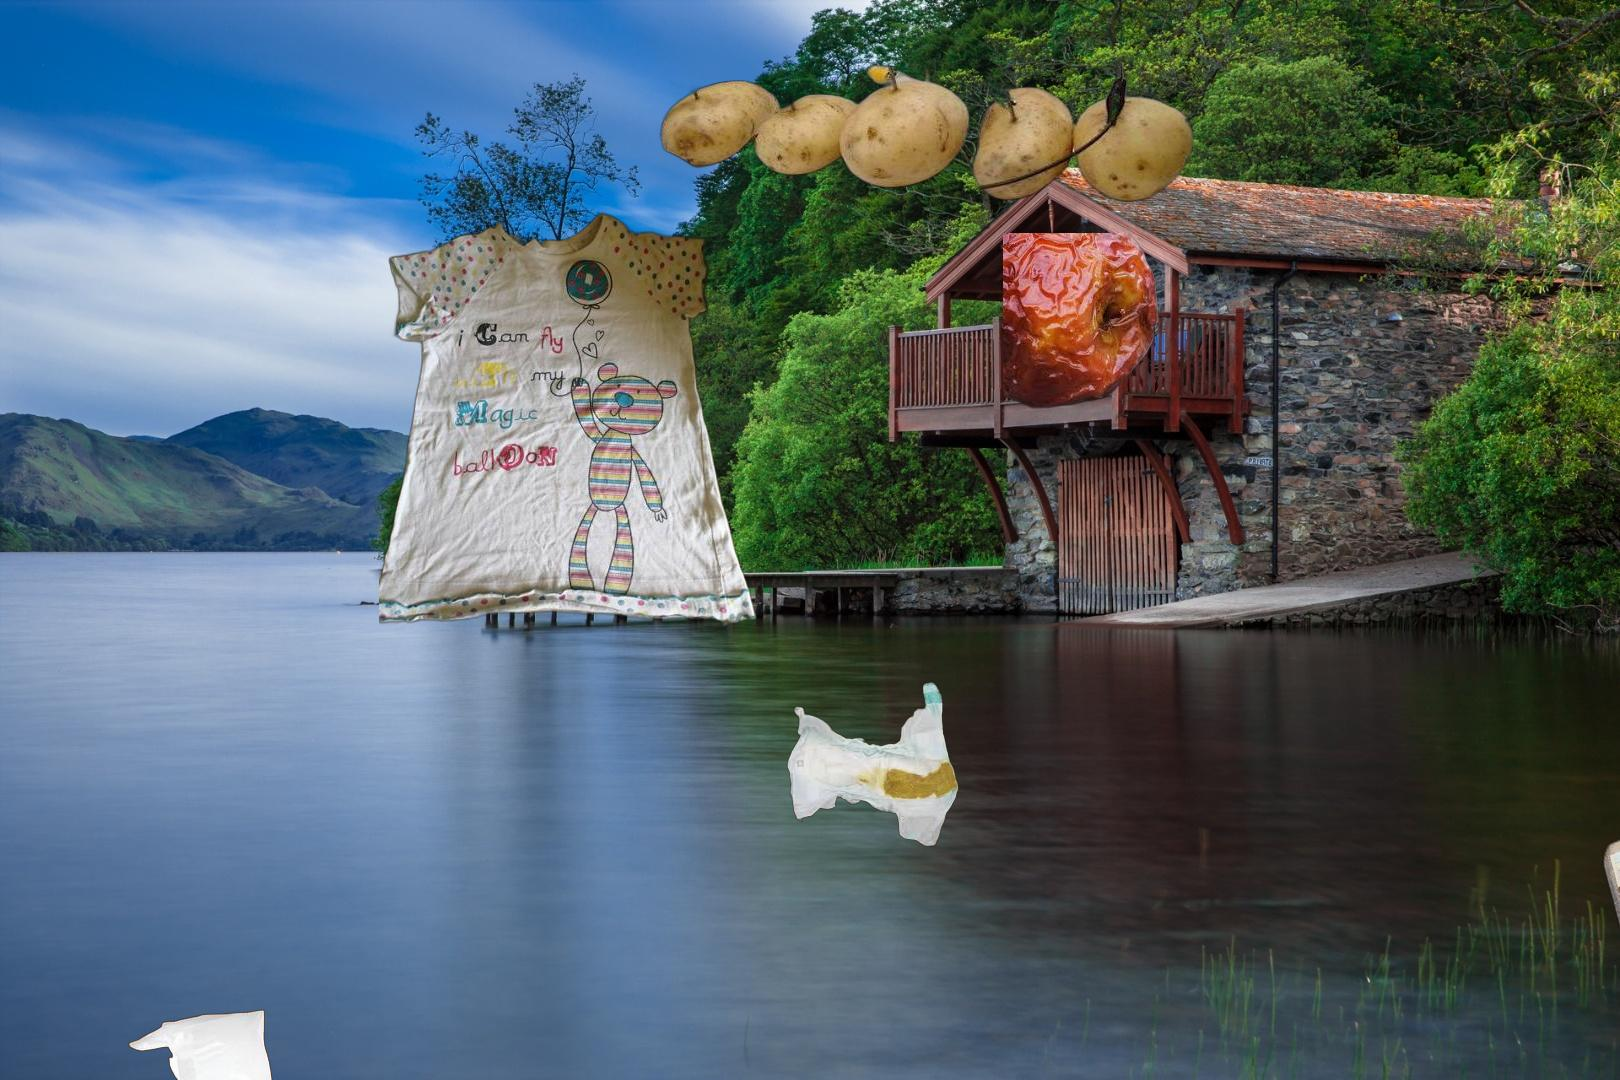battery: (656, 45, 1198, 202)
biological: (1003, 233, 1162, 411)
clothes: (378, 209, 771, 630)
plastic-bag: (127, 1006, 277, 1080)
plastic-bottles: (1600, 829, 1620, 998)
trash: (783, 679, 961, 849)
